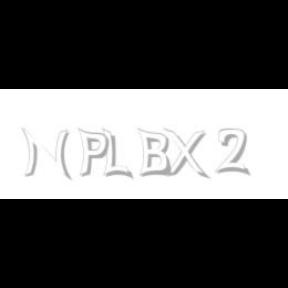2: (215, 128, 249, 176)
B: (137, 128, 171, 178)
L: (102, 128, 130, 180)
N: (20, 128, 70, 180)
P: (77, 128, 109, 178)
X: (163, 128, 207, 180)
